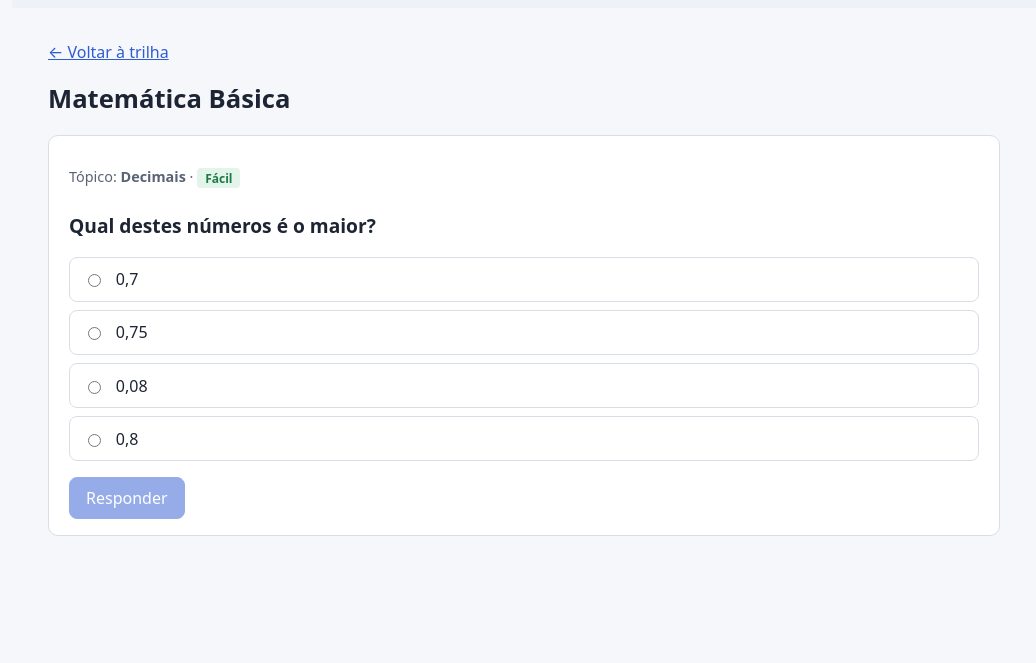
Test: trilha e sessão adaptativa › após erro mostra a alternativa correta; dois erros seguidos sugerem revisão
Step 1. Click the radio button labelled "0,7" → (94, 281), box [88,274,101,287]
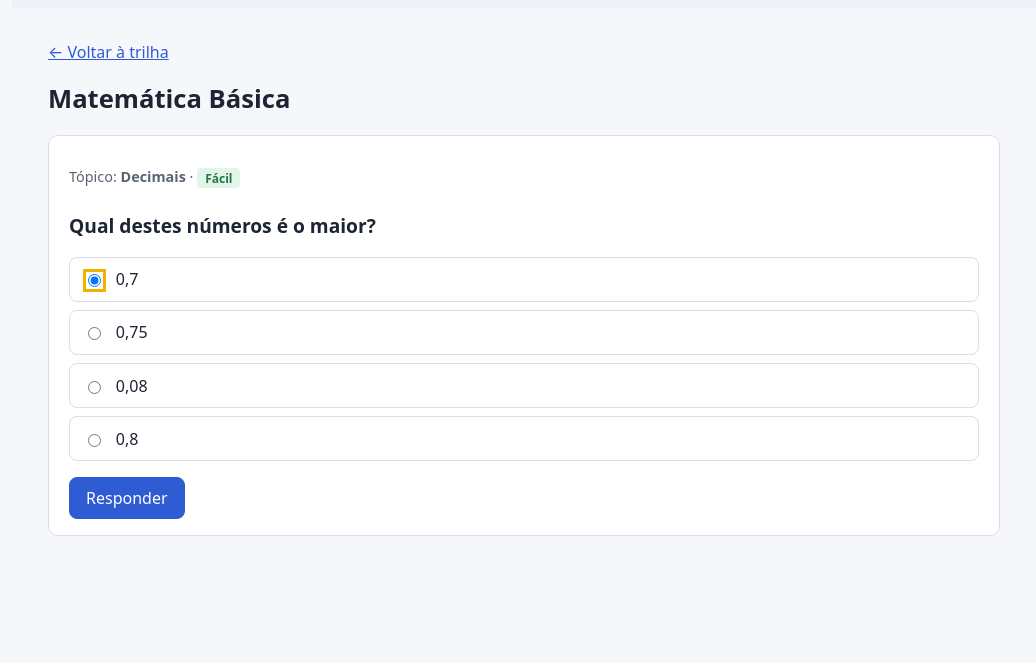
Step 2. Click the button "Responder" → (127, 498), box [69,477,184,519]
(page scrolled)
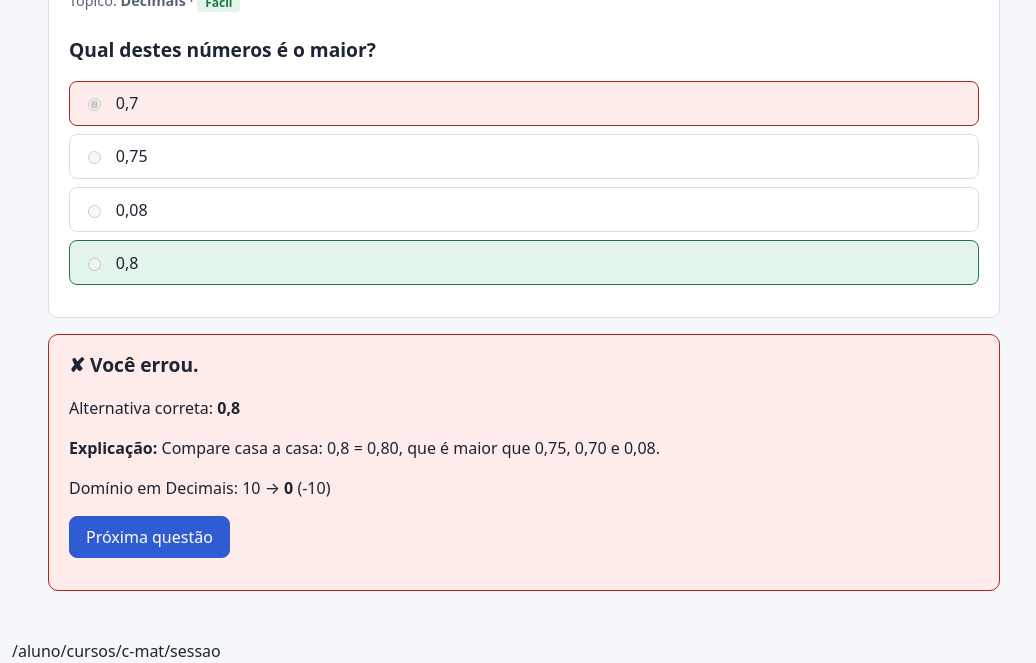
Expected: the link "Revisar materiais" is not shown
Expected: the heading "✘ Você errou." is shown, [69,351,199,378]
Expected: the text "Alternativa correta:" shows "0,8", [217,397,240,419]
Step 3. Click the button "Próxima questão" → (149, 537), box [69,516,230,558]
(page scrolled)
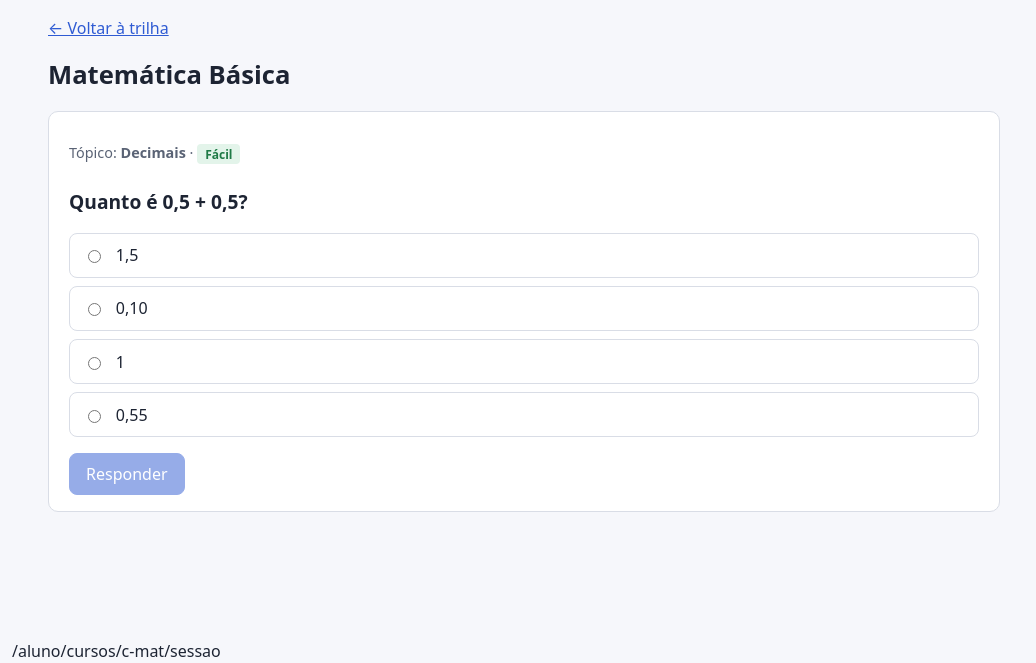
Step 4. Click the radio button labelled "0,55" → (94, 416), box [88,410,101,423]
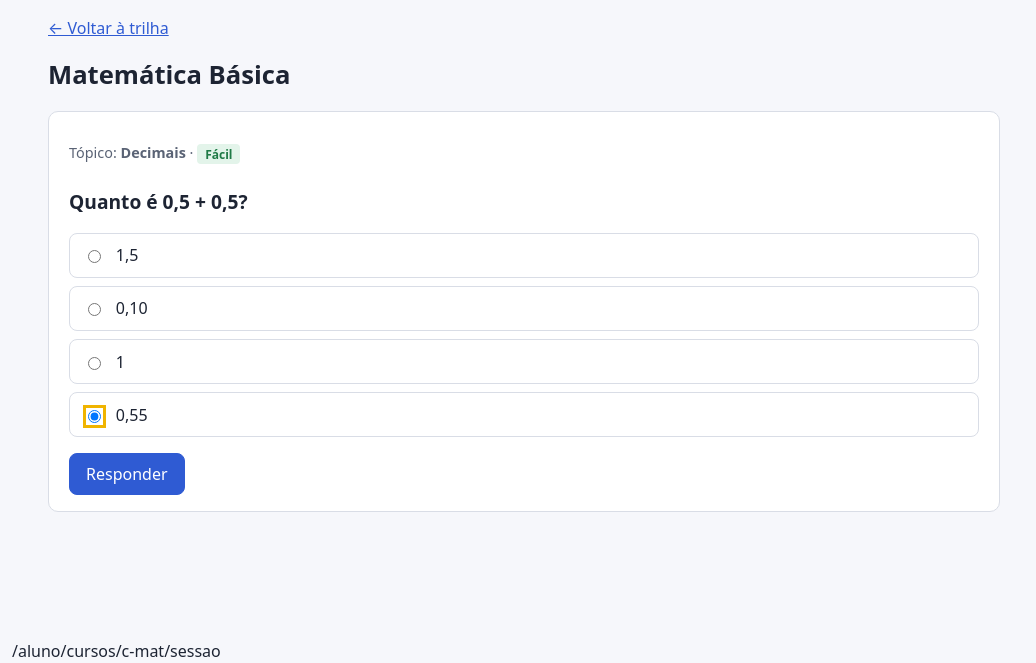
Step 5. Click the button "Responder" → (127, 474), box [69,453,184,495]
(page scrolled)
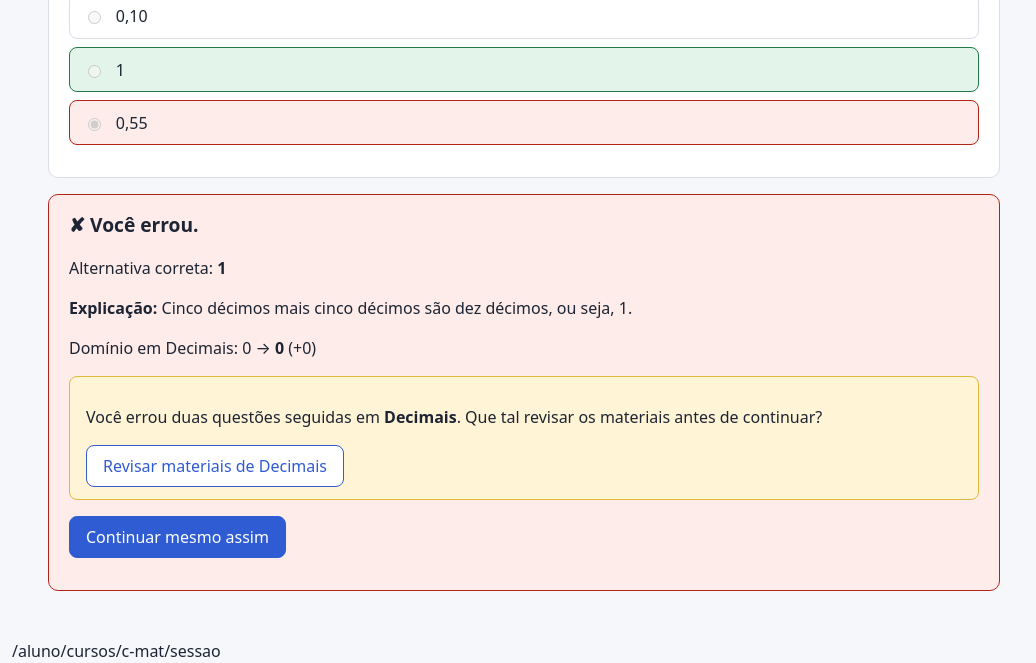
Expected: the heading "✘ Você errou." is shown, [69,211,199,238]
Expected: the text "Alternativa correta:" shows "1", [217,257,226,279]
